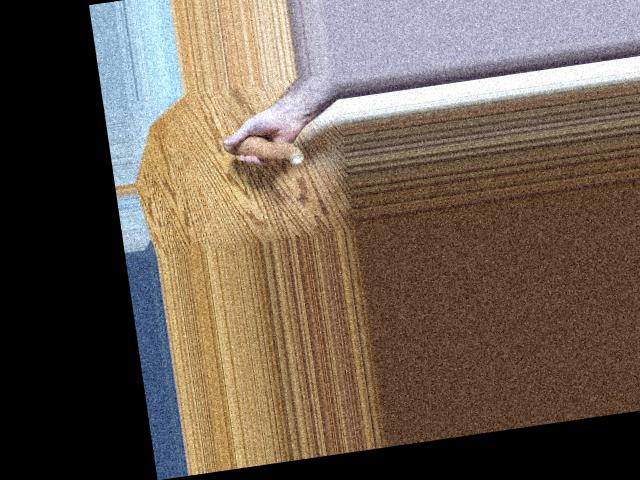sweet_potato: (218, 128, 309, 174)
